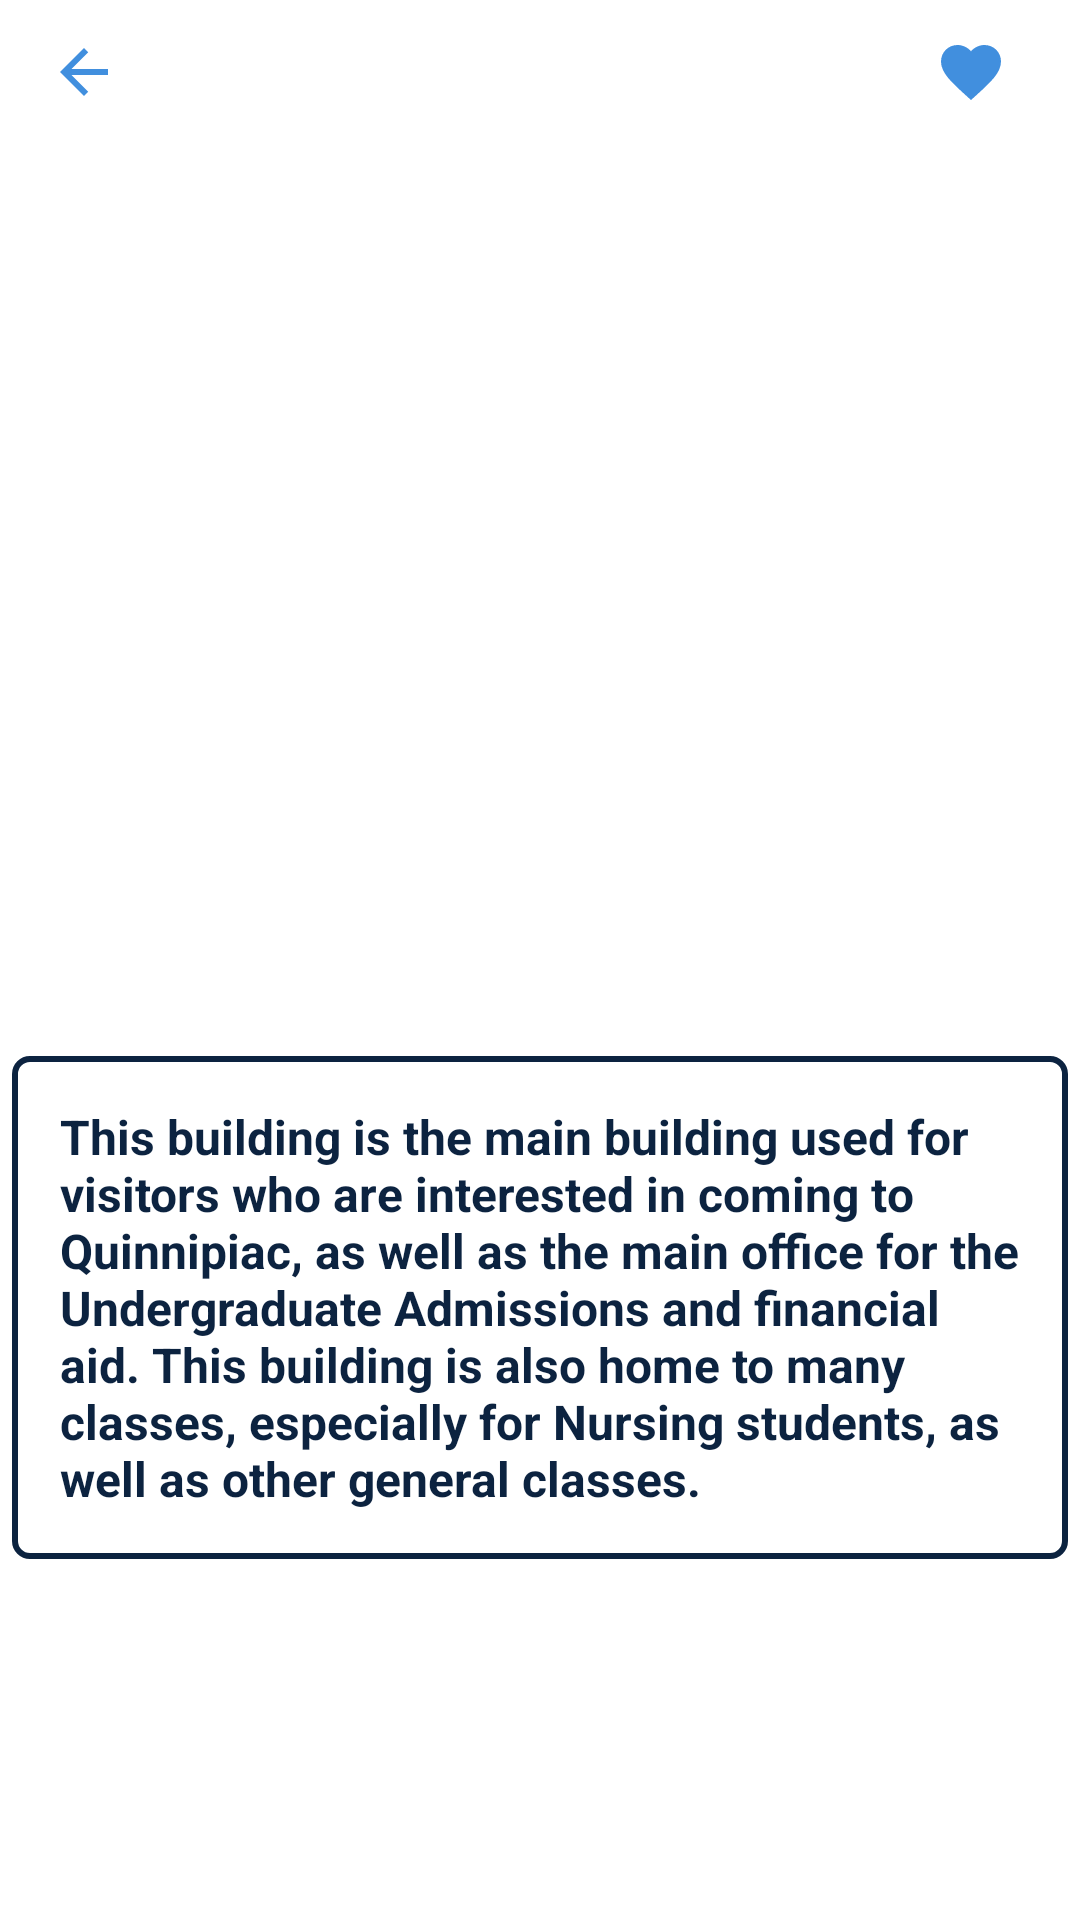

Point at icon controls on the screen. Image size 1080px×1920px, points as [x,y].
Back: [84,72]
favorite: [971,72]
